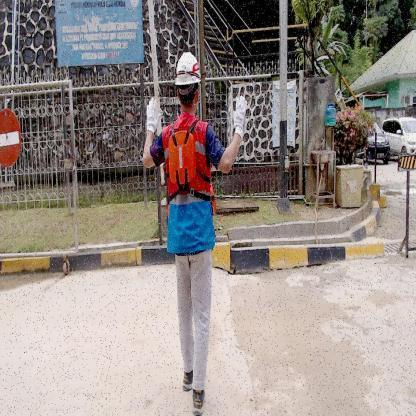boots: (189, 383, 207, 416), (182, 364, 196, 392)
gloves: (232, 96, 248, 140), (146, 97, 162, 135)
helmet: (174, 50, 202, 86)
vest: (168, 129, 197, 187)
